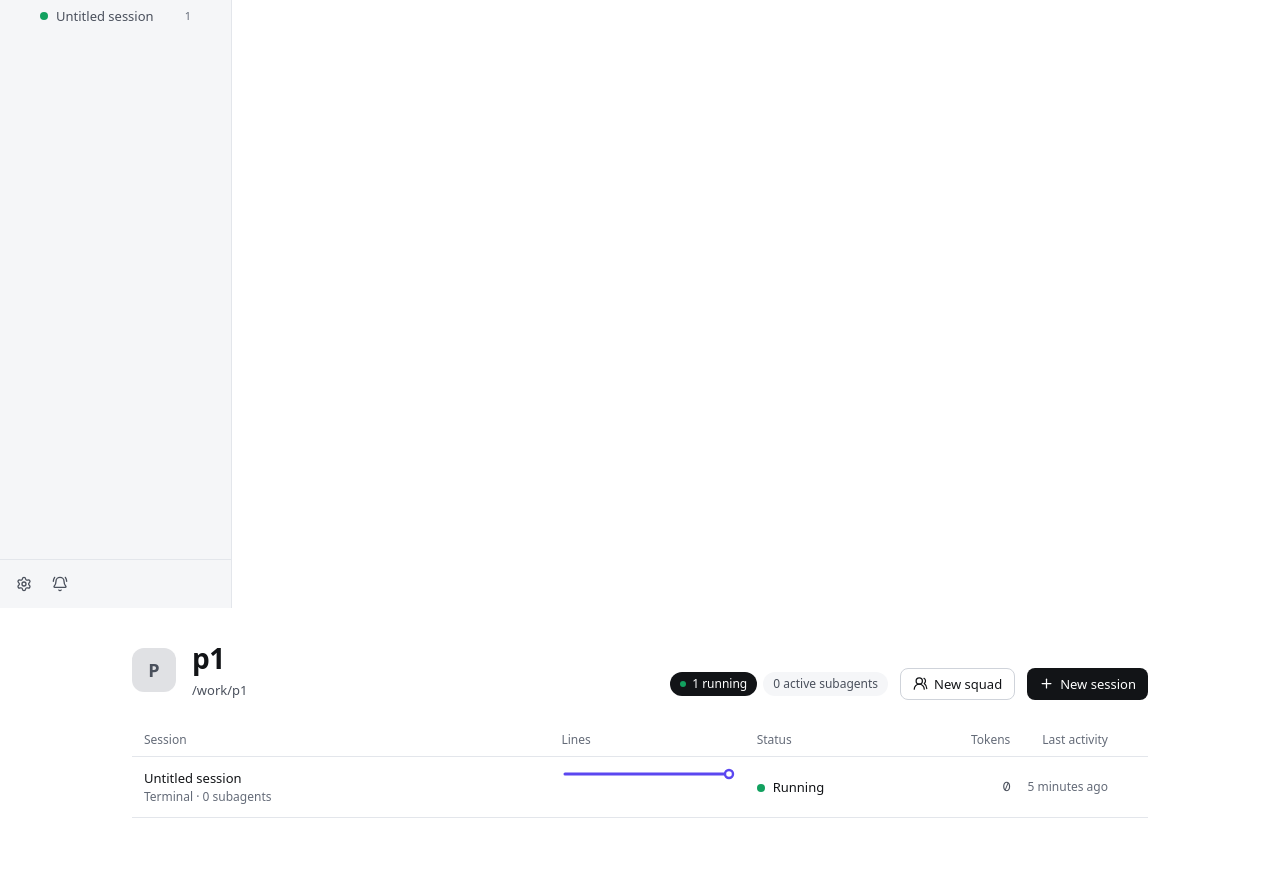
Test: project appearance › only changes the project it was chosen for, and Reset brings the default back
The image size is (1280, 882).
(page scrolled)
Click the button named "Change icon and colour" at (154, 670), box [132, 648, 176, 692]
(page scrolled)
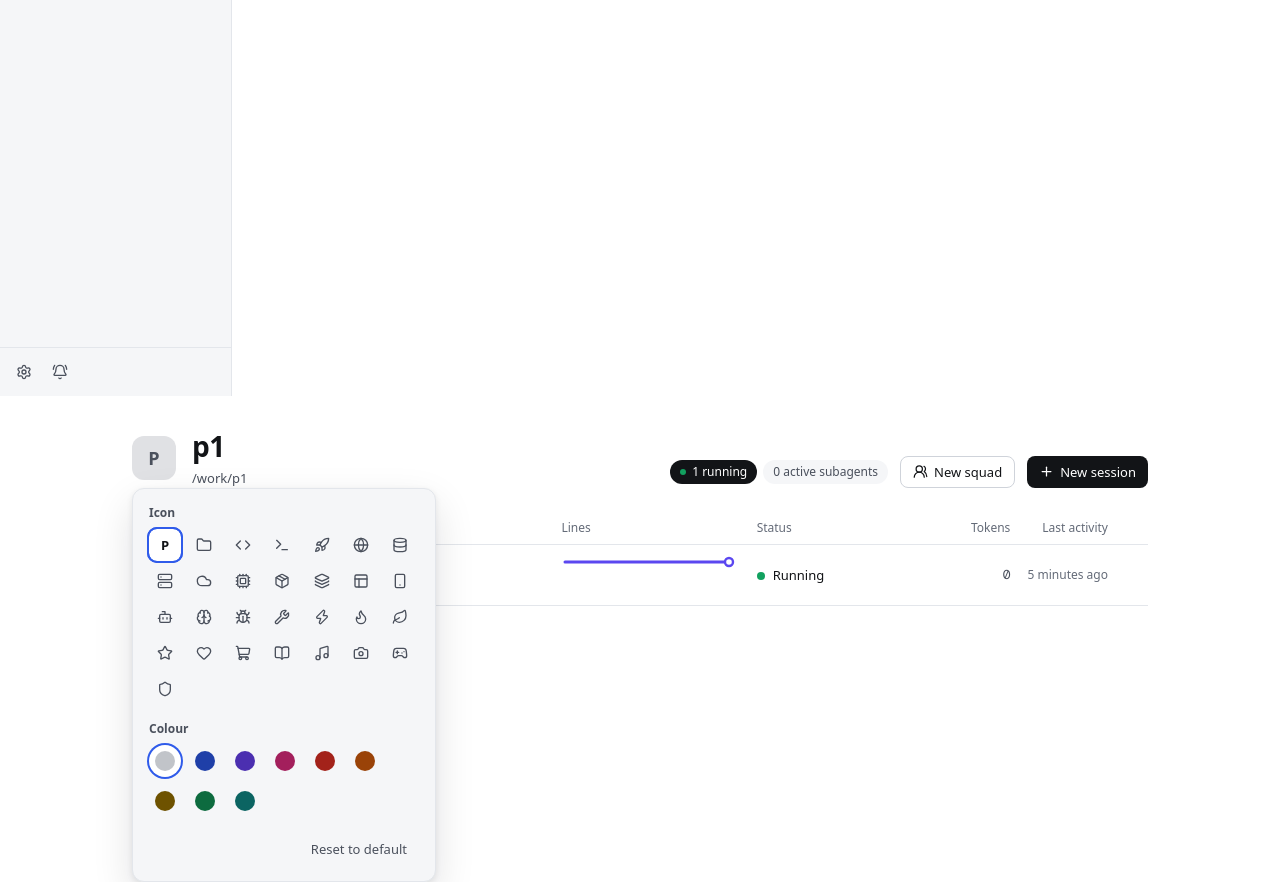
Click the radio button named "Green" at (205, 801), box [195, 791, 215, 811]
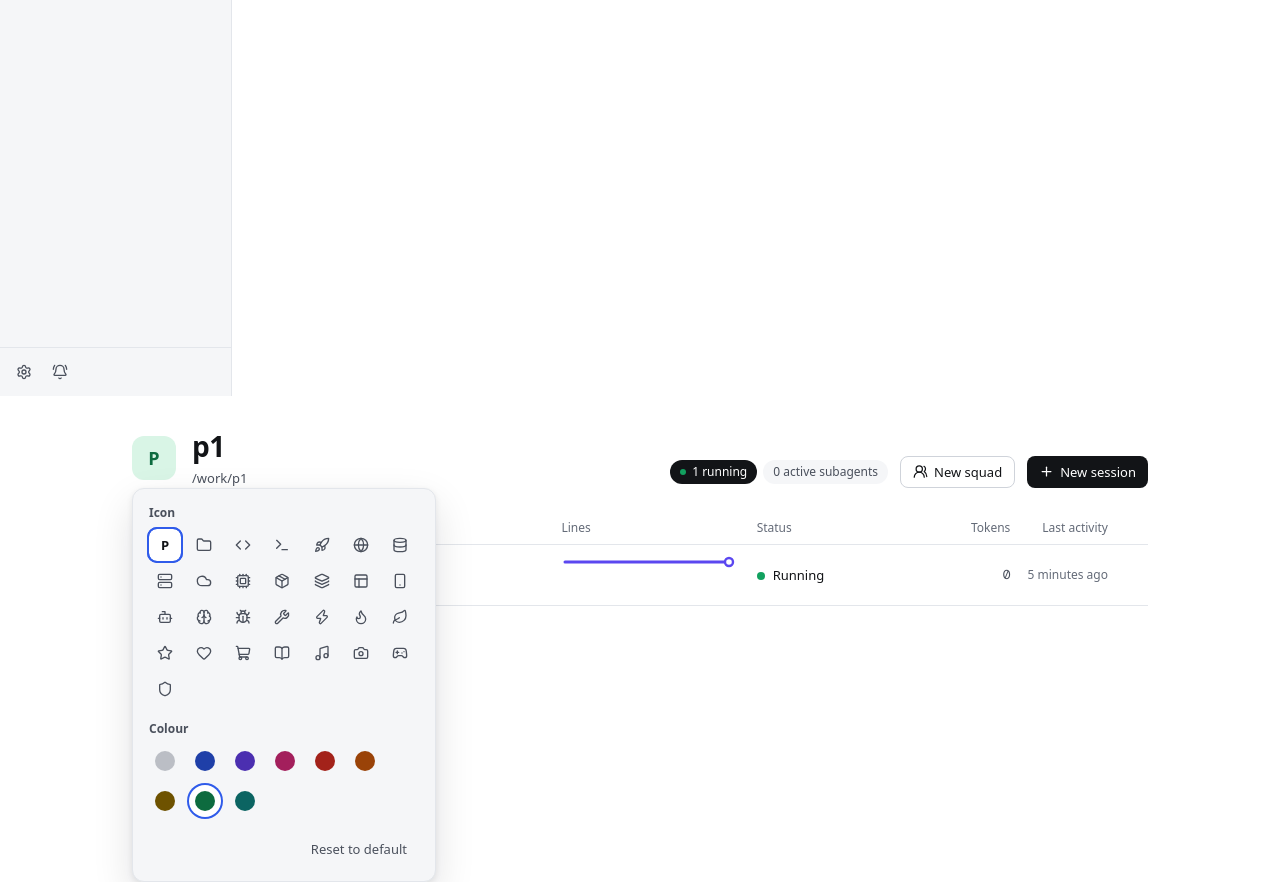
Click the button "Reset to default" at (359, 849), box [299, 833, 419, 865]
(page scrolled)
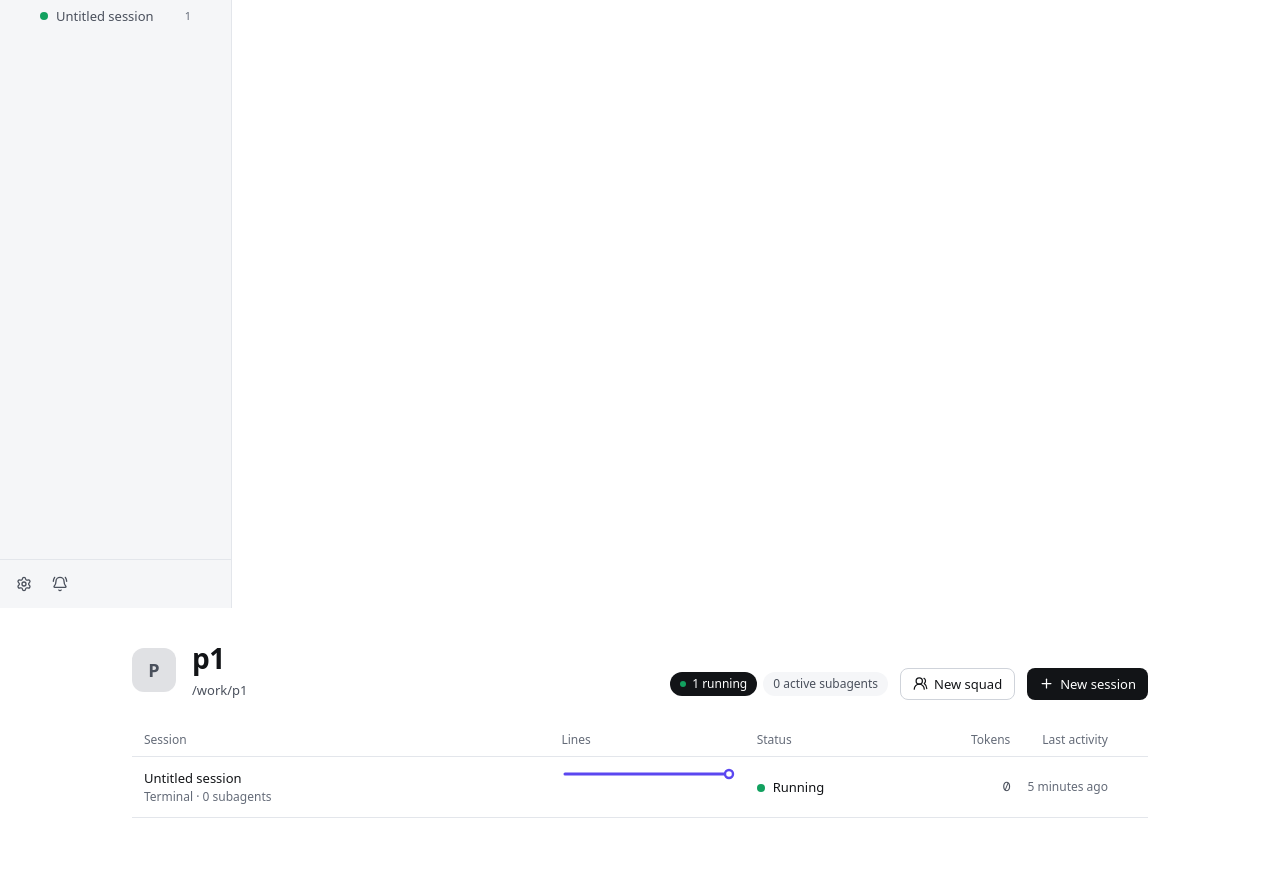
Expected: the dialog is gone
